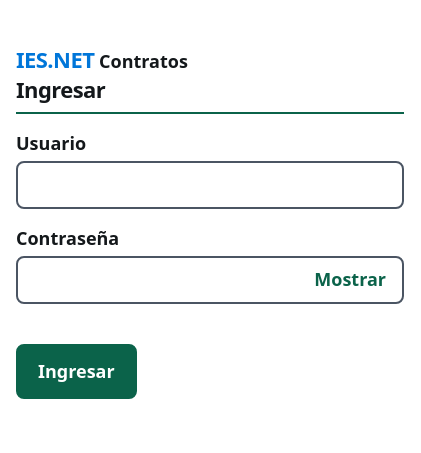
Test: PaginaLogin — mostrar u ocultar la contraseña › keeps the password visible after a rejected login — that is when the typo has to be readable
The width and height of the screenshot is (421, 453).
In the field labelled "Usuario": (210,185) [16,161,404,209], type "tecnico1"
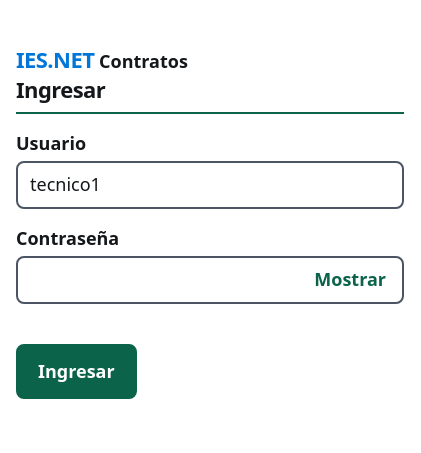
In the password field labelled "Contraseña": (210,280) [16,256,404,304], type "incorrecta"
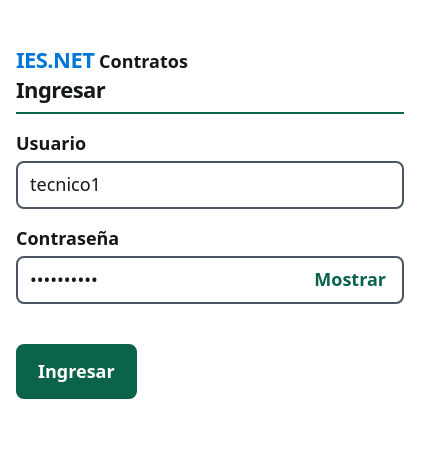
Click the button with aria-label "Mostrar contraseña": (350,280) [296,256,404,304]
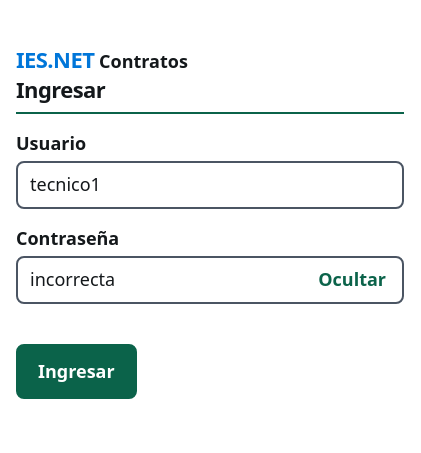
Click the button "Ingresar": (76,371) [16,344,137,399]
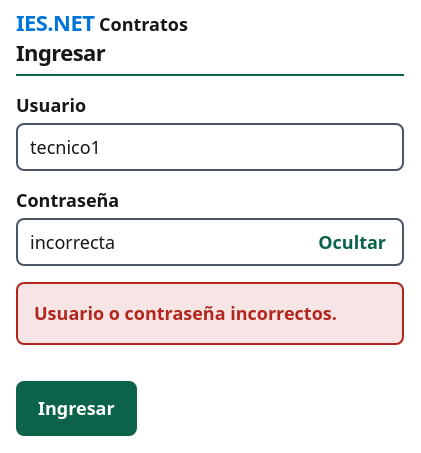
Result: the field labelled "Contraseña" shows its text at [16,218,404,266]
Result: the text "Usuario o contraseña incorrectos." is shown at [16,282,404,345]
